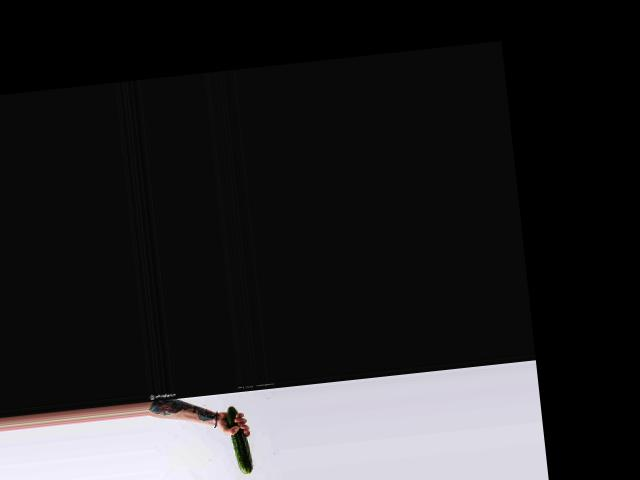cucumber: (226, 405, 254, 475)
